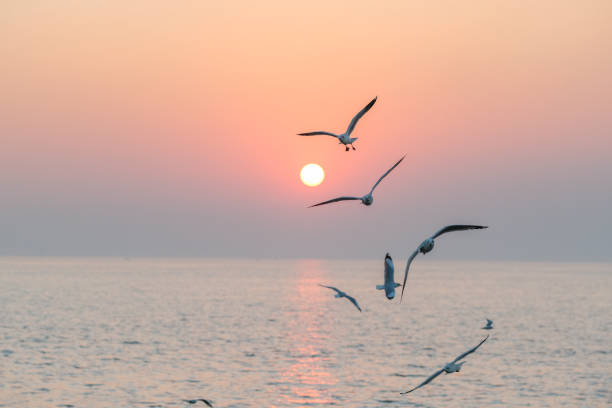Bird: (400, 220, 489, 297), (306, 152, 404, 216), (401, 331, 488, 397), (291, 92, 378, 153), (316, 283, 363, 315), (375, 245, 402, 300), (481, 315, 493, 330)
